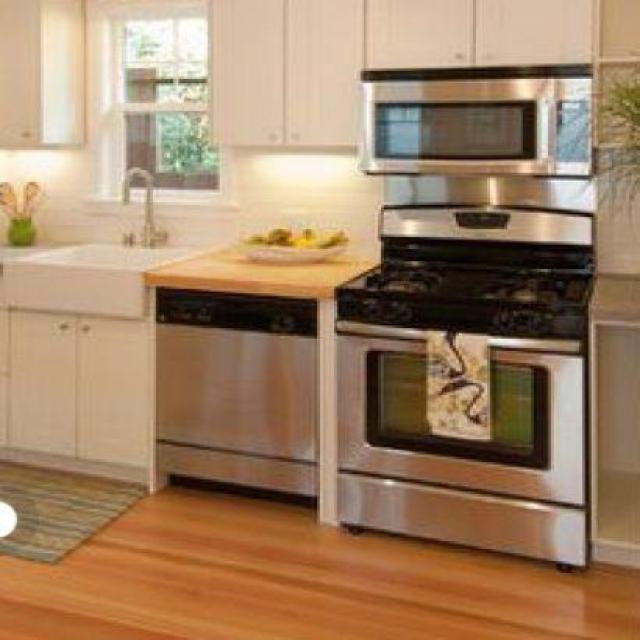dishwasher: (149, 283, 332, 509)
